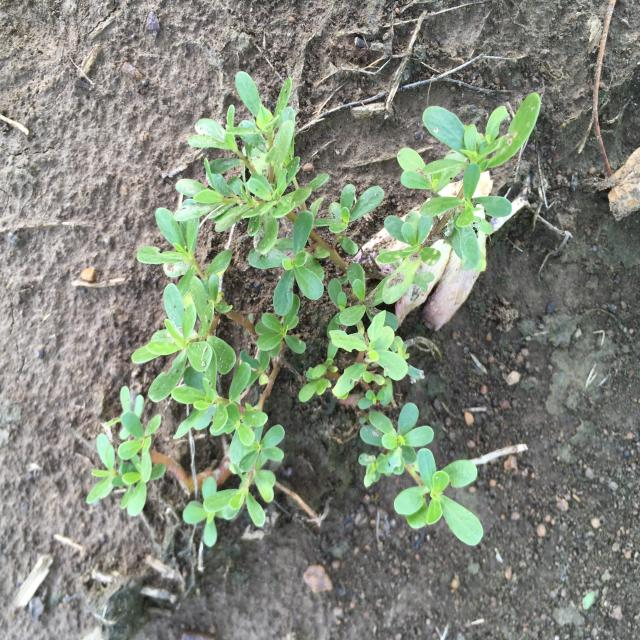Purslane: (86, 71, 541, 547)
